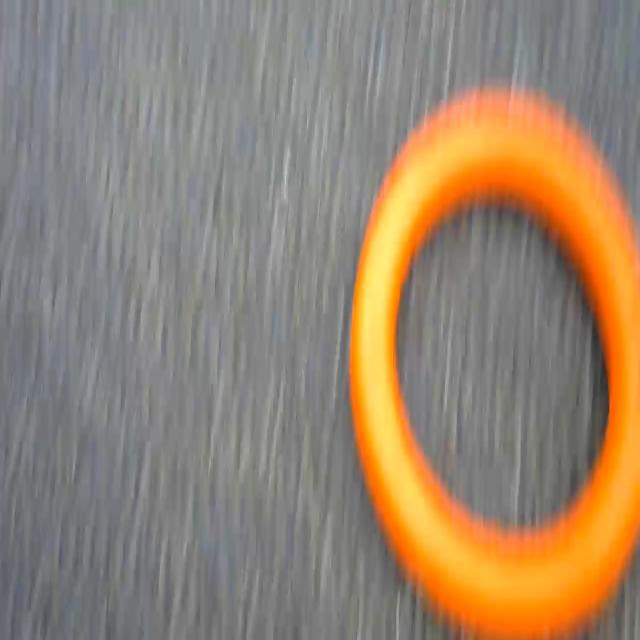note: (325, 82, 640, 640)
